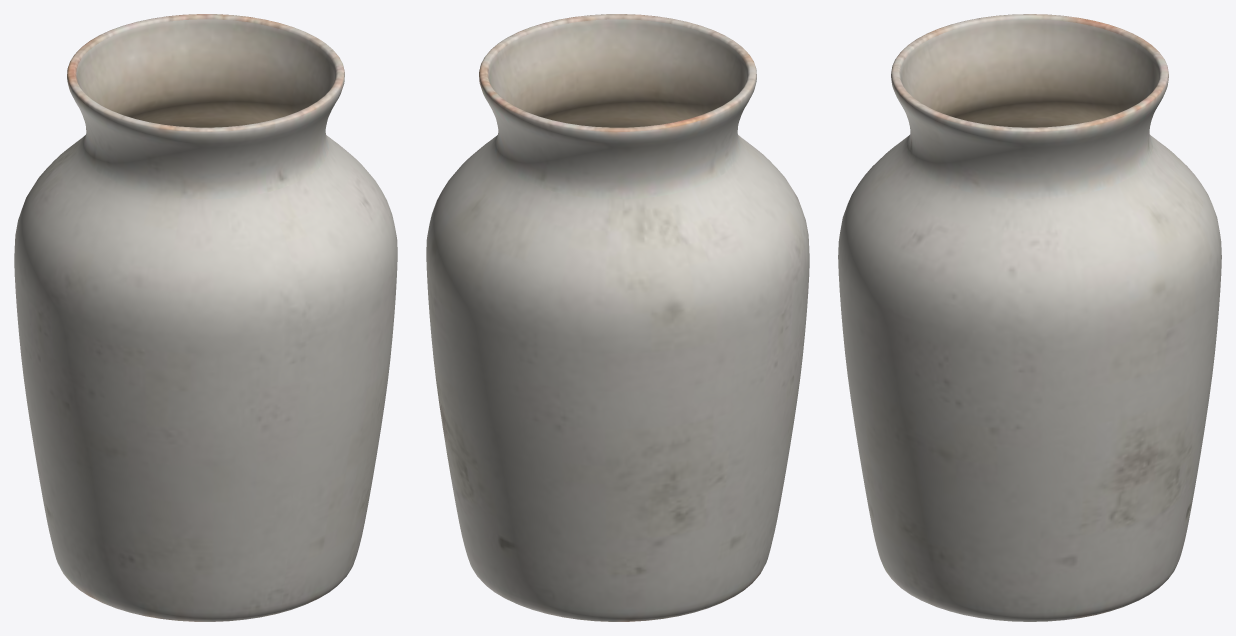
File: ceramic_vase_02.gltf
The picture shows the model from 3 angles, left to right: view 1: azimuth 30°, elevation 25°; view 2: azimuth 150°, elevation 25°; view 3: azimuth 270°, elevation 25°; orthographic projection.
Parts seen in each view (by area): view 1: ceramic_vase_02; view 2: ceramic_vase_02; view 3: ceramic_vase_02.
Boxes of the visible parts, x1,y1,x2,y2 form: ceramic_vase_02: (14,14,397,621); ceramic_vase_02: (426,14,809,621); ceramic_vase_02: (838,14,1221,621).
Bounding box in the file's own units: 0.2184 × 0.3092 × 0.2184.
1 material, 1 textured.
